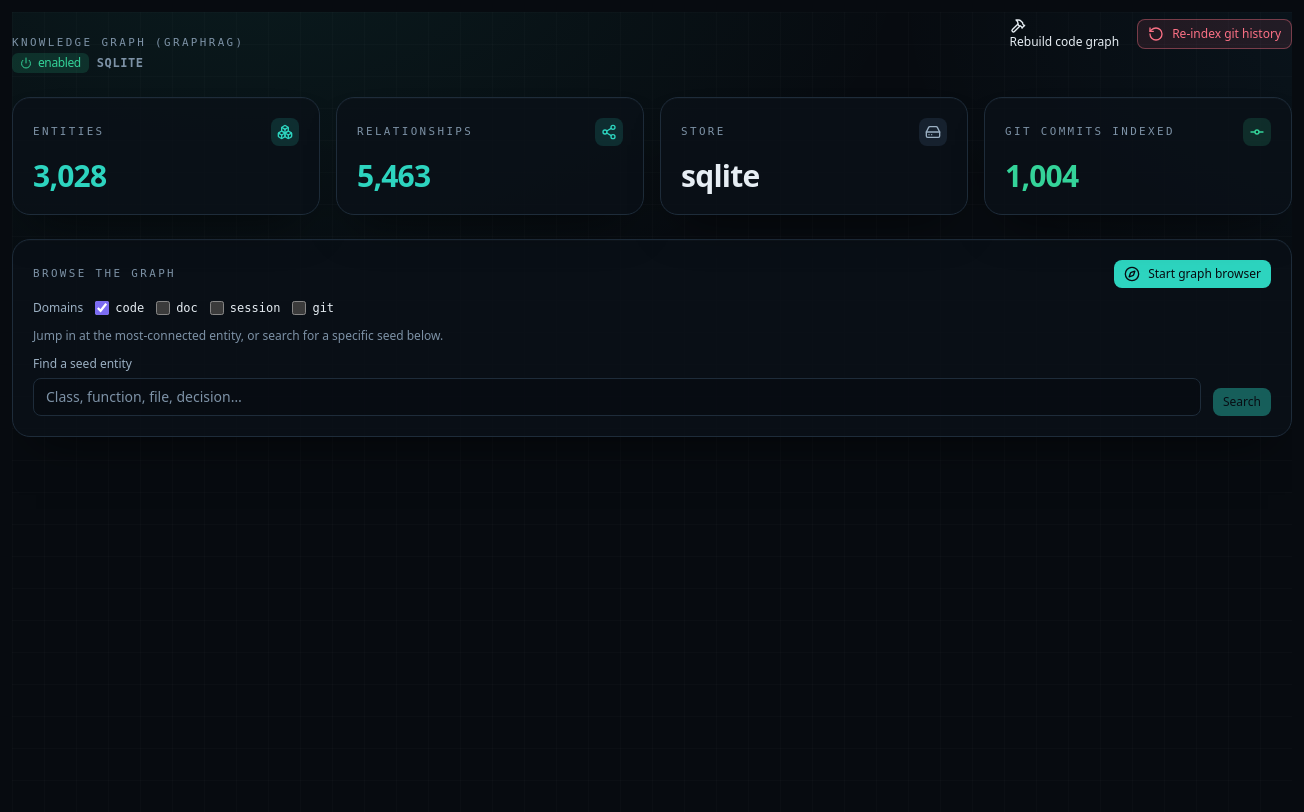
it: graph browser › backdrop click closes the panel
In the field with test id "input-graph-search": (617, 397) [33,378,1201,416], type "query"
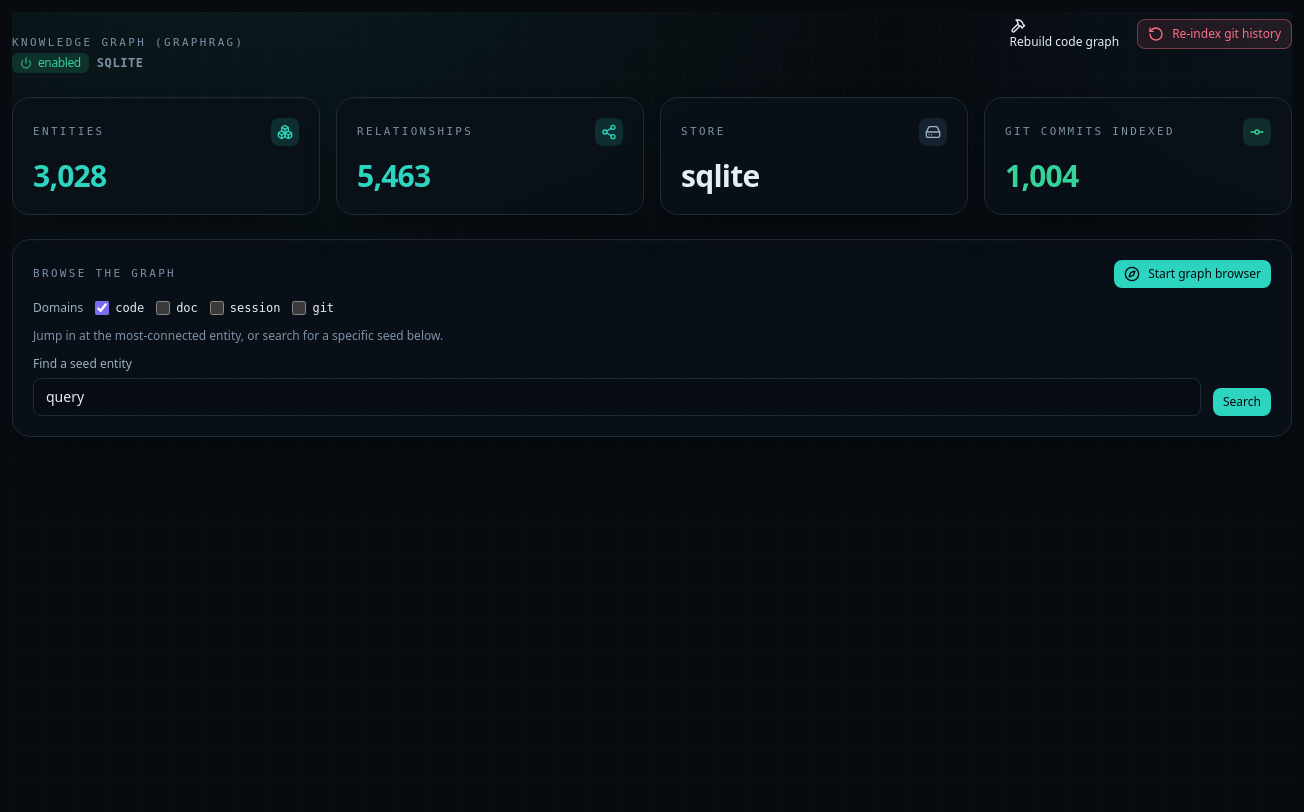
Click the button with test id "btn-graph-search": (1242, 402) [1213,388,1271,416]
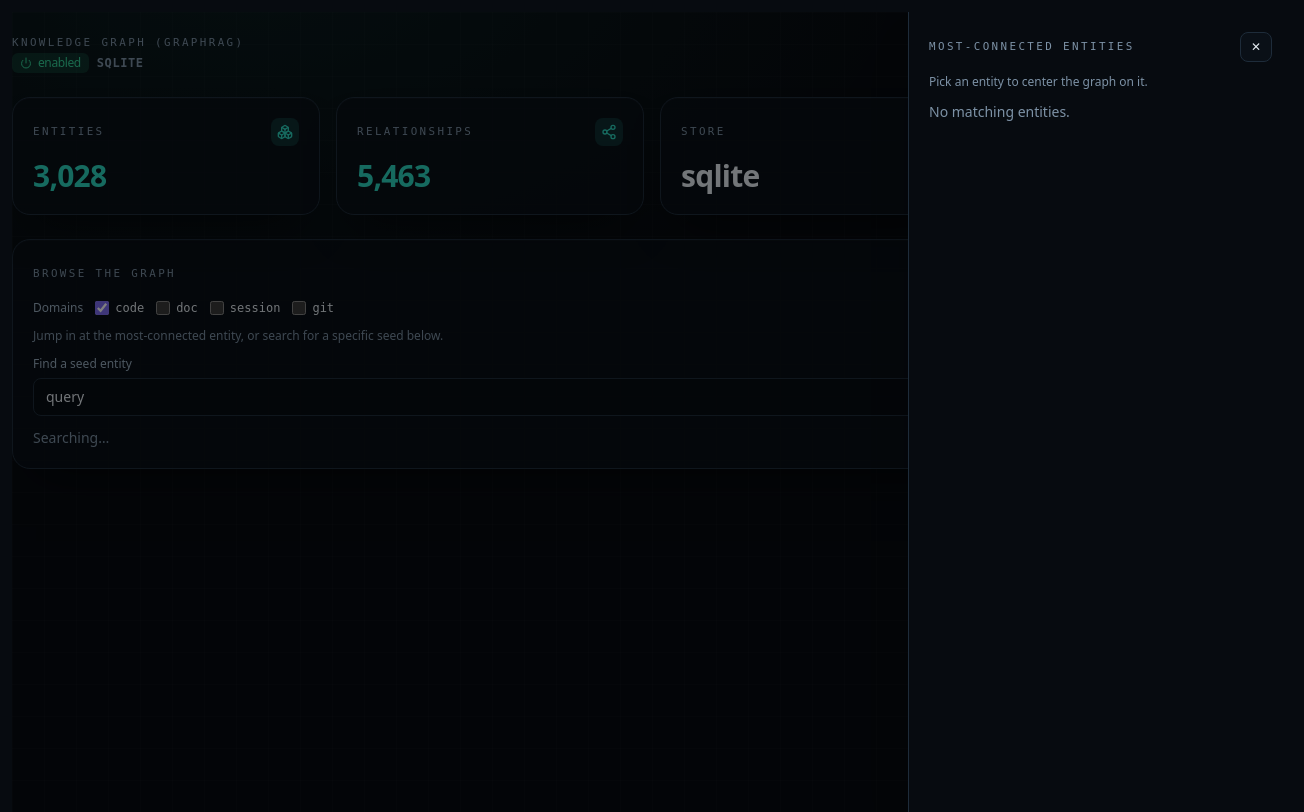
Check: the element with test id "graph-search-panel" is shown, box [908,12,1292,811]
Click the element with test id "graph-panel-backdrop": (652, 412) [12,12,1292,811]
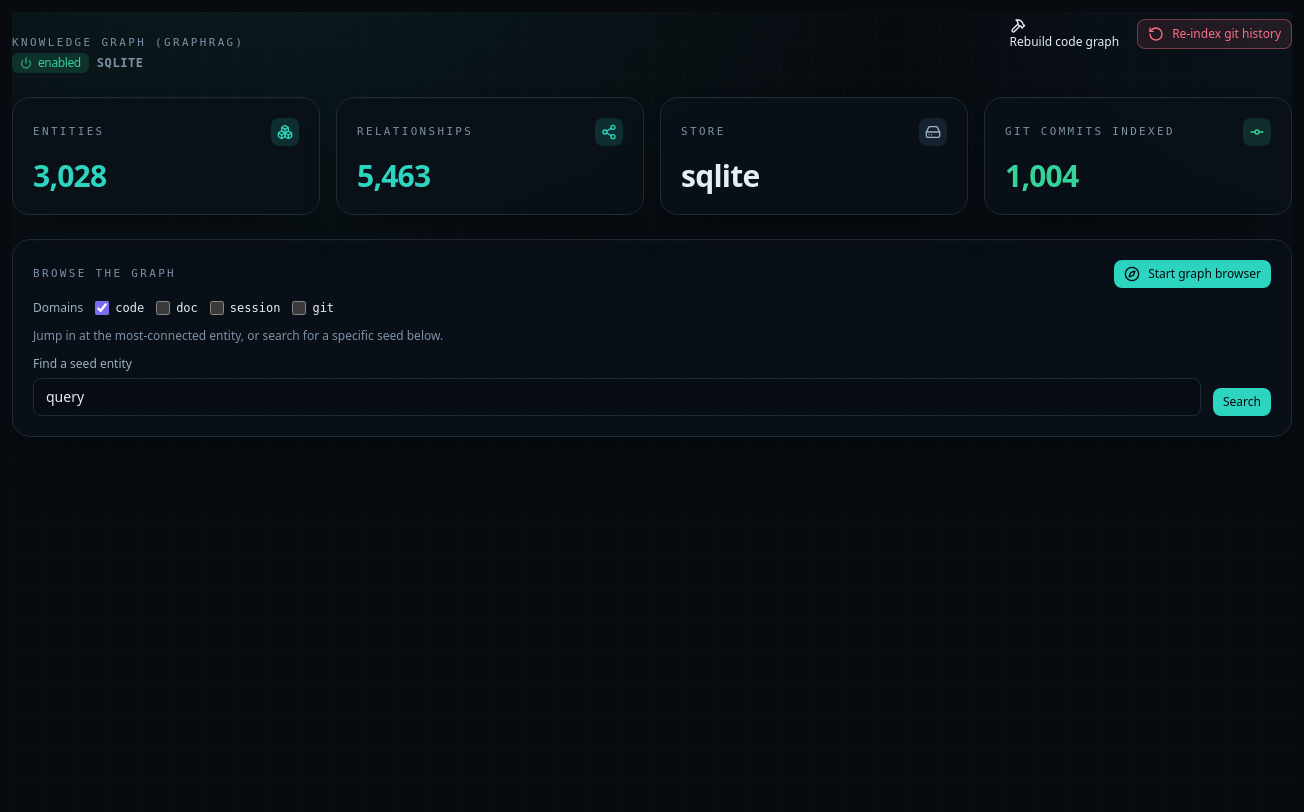
Check: the element with test id "graph-search-panel" is gone
